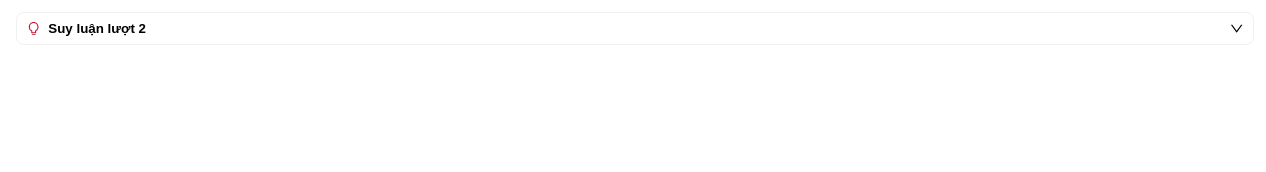
Test: ReasoningCard › shows the provider text on expansion and hides it on collapse
Expected: the text "Inspecting the assignment" is not shown
Click the button "Suy luận lượt 2". click: (93, 28)
box: [17,13,1253,44]
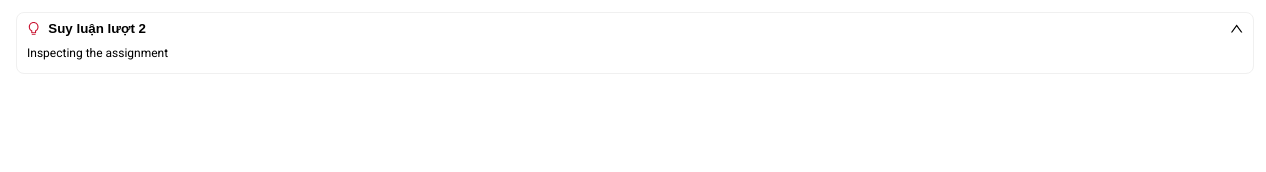
Expected: the text "Inspecting the assignment" is shown, [27,46,168,60]
Click the button "Suy luận lượt 2". click: (93, 28)
box: [17,13,1253,44]
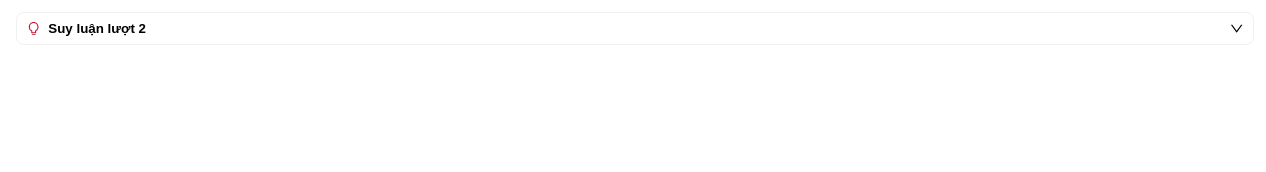
Expected: the text "Inspecting the assignment" is gone
